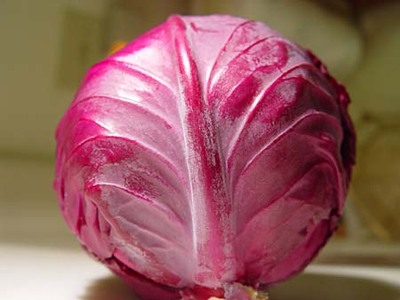cabbage: (50, 13, 359, 299)
